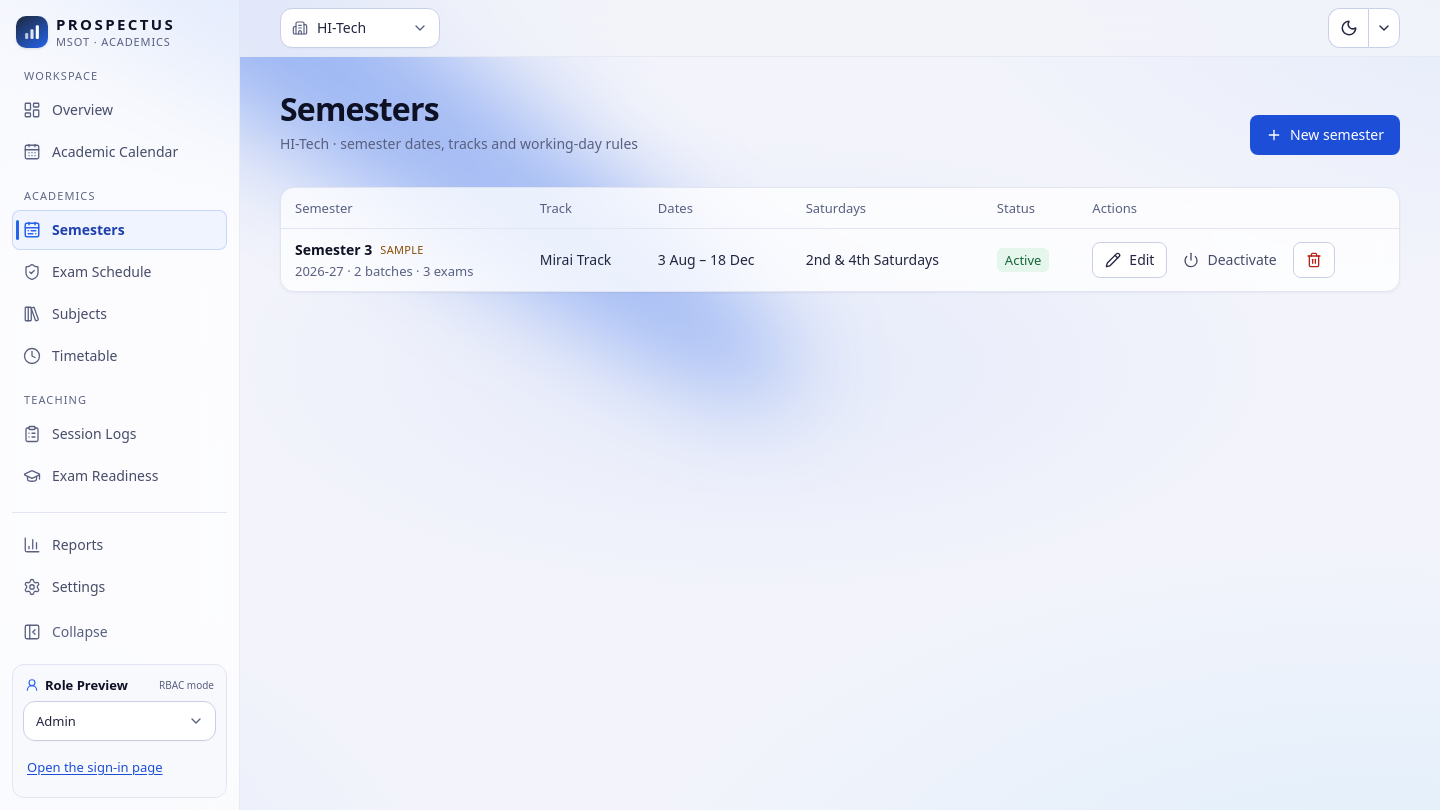
Test case: Semesters page › shows server validation next to the field, then an overlap warning that needs explicit confirmation
Click the button "New semester": (1325, 135) left=1250, top=115, right=1400, bottom=155
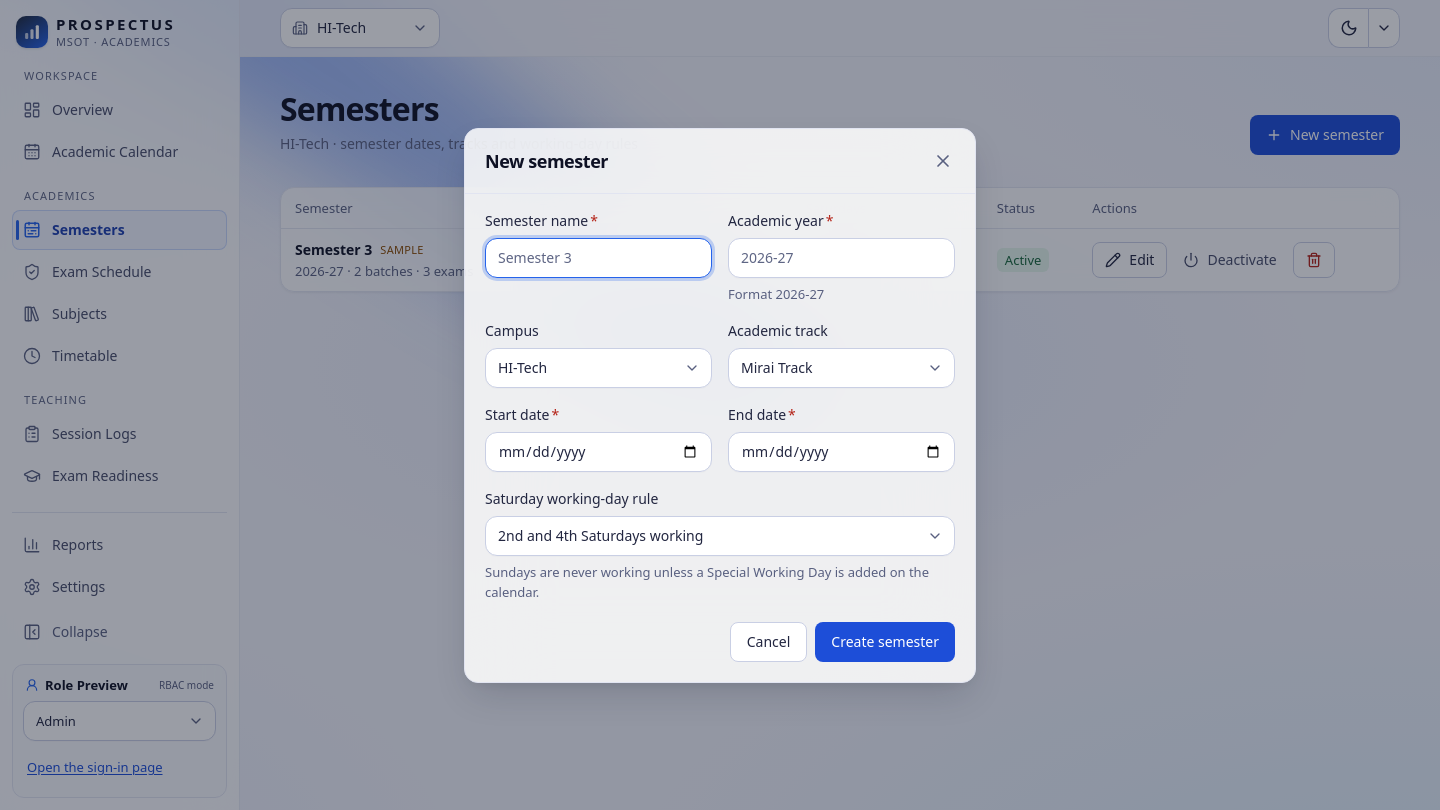
In the field labelled "Semester name": (598, 258) left=485, top=238, right=712, bottom=278, type "Semester 4"
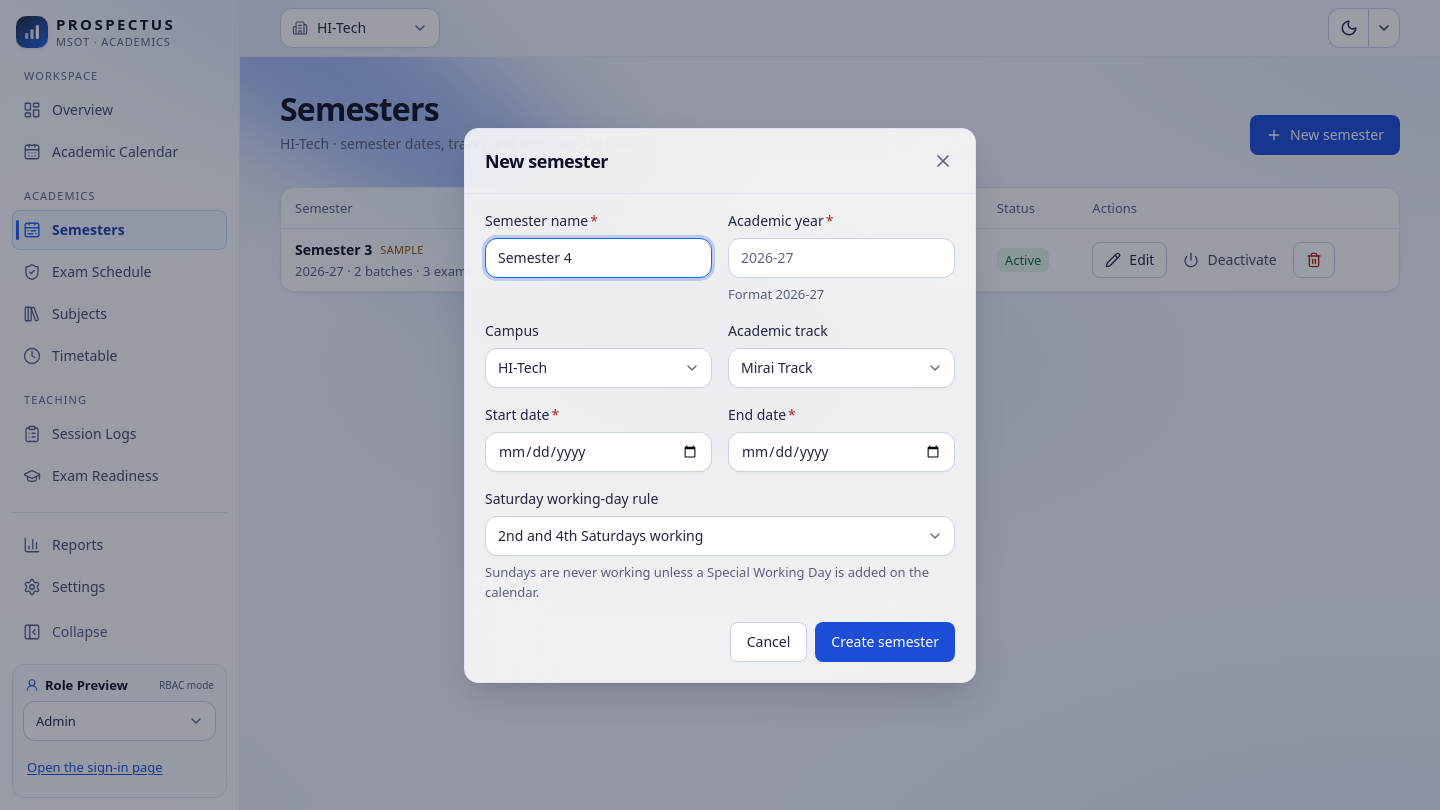
Click the button "Create semester": (885, 642) left=815, top=622, right=955, bottom=662
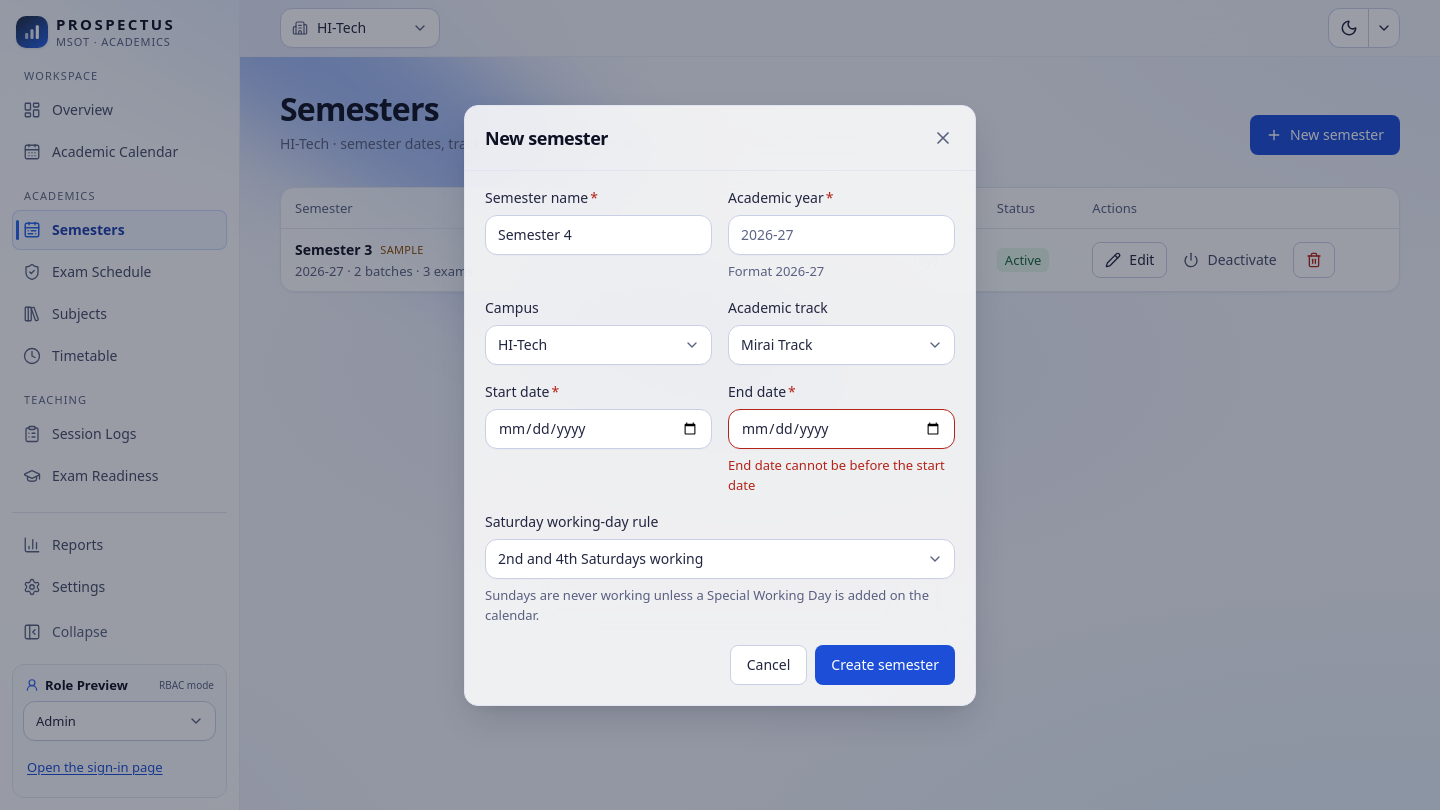
Expected: the text "End date cannot be before the start date" is shown, left=728, top=454, right=955, bottom=494
Click the button "Create semester": (885, 664) left=815, top=644, right=955, bottom=684
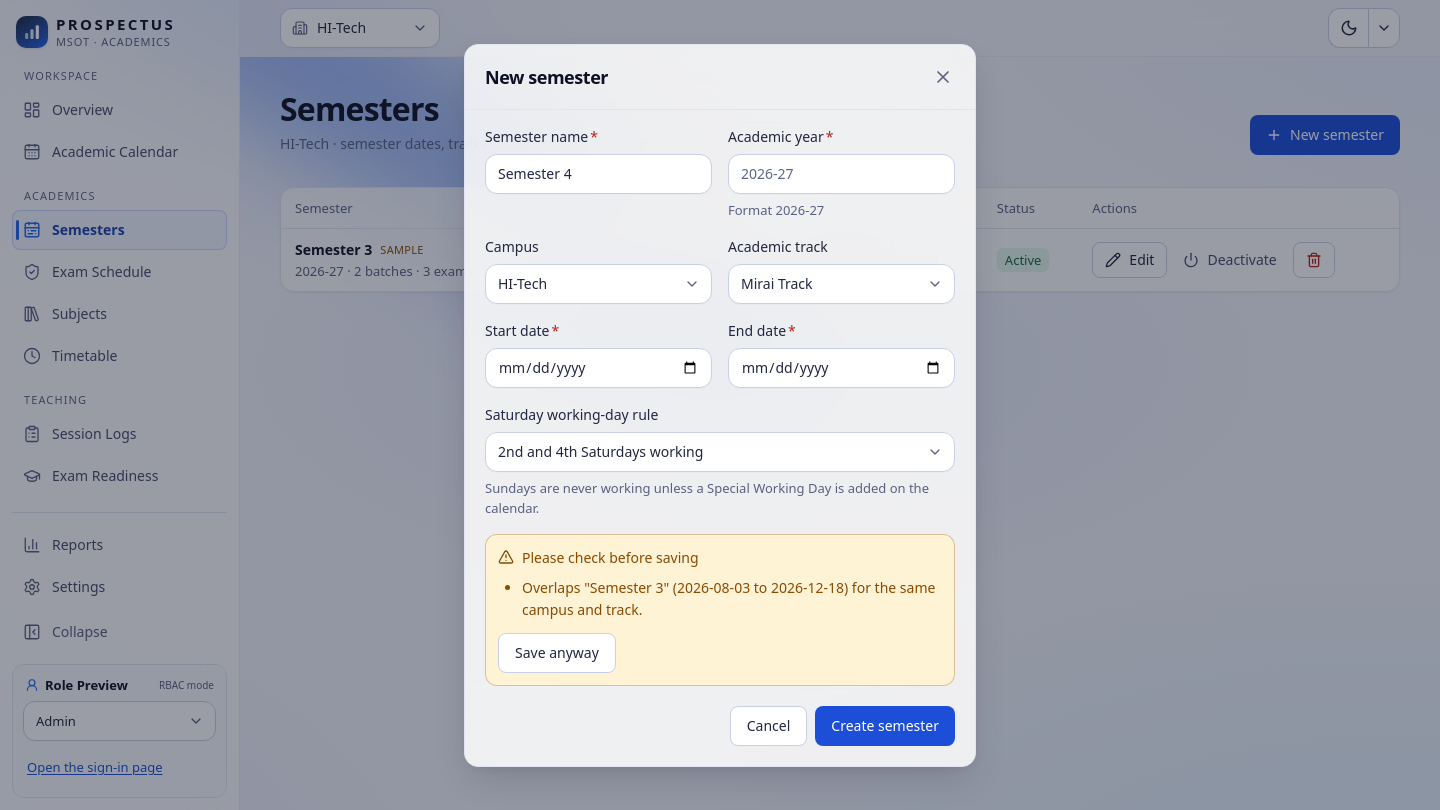
Expected: the list item "Overlaps \"Semester 3\"" is shown, left=522, top=578, right=935, bottom=618
Click the button "Save anyway": (557, 652) left=498, top=632, right=616, bottom=672
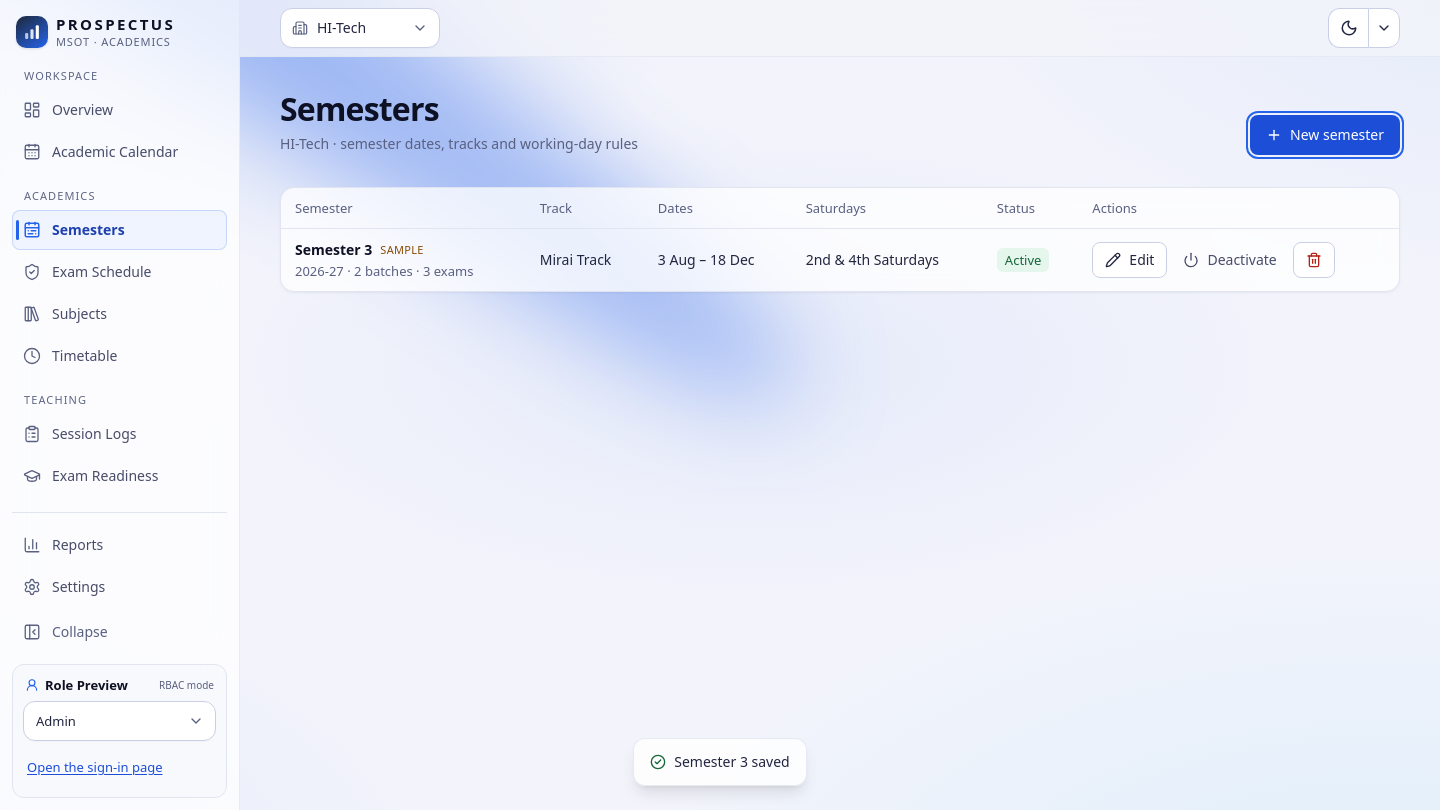
Expected: the dialog is gone
Expected: the text "Semester 3 saved" is shown, left=633, top=738, right=807, bottom=786
